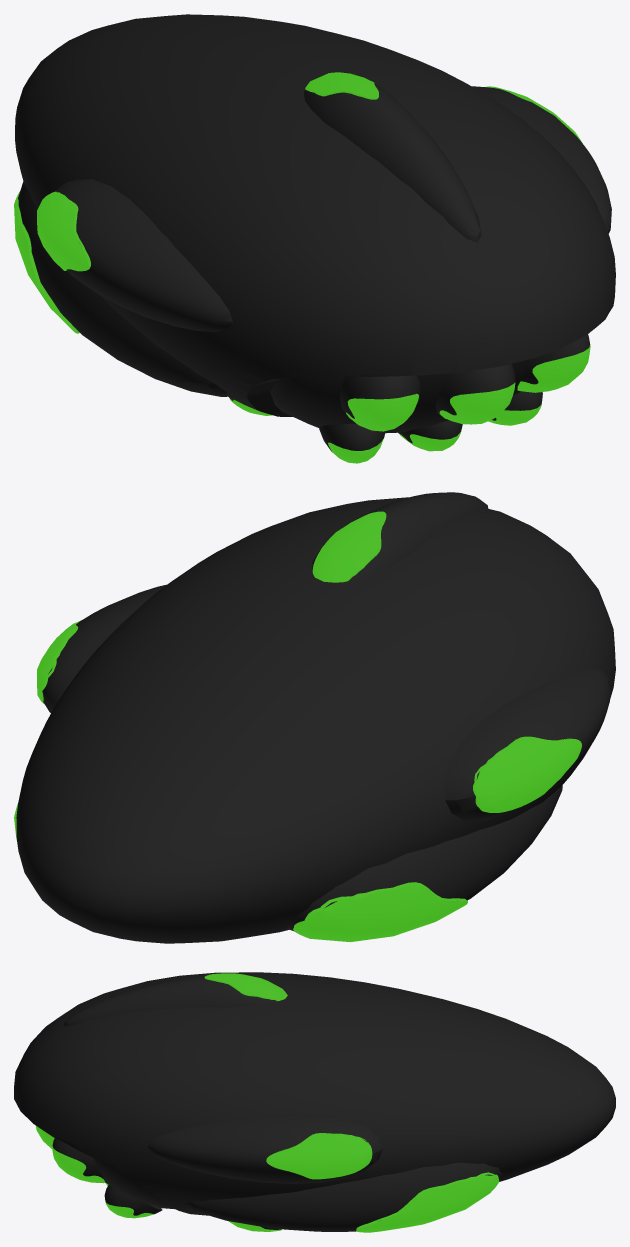
Rendered from drone.glb.
3 renders of one model, top to bottom at view 1: azimuth 30°, elevation 25°; view 2: azimuth 150°, elevation 25°; view 3: azimuth 270°, elevation 25°, orthographic. The views are drawn at different scales.
Visible parts, largest first — view 1: drone; view 2: drone; view 3: drone.
Boxes of the visible parts, x1,y1,x2,y2 form: drone: [14, 14, 615, 463]; drone: [14, 492, 615, 943]; drone: [14, 972, 615, 1232].
Size of the model in its own units: 423 by 260 by 631.
